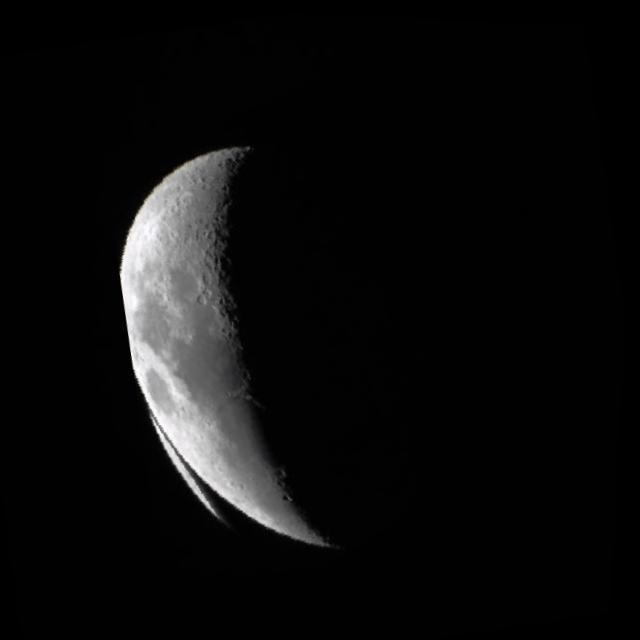moon: (80, 45, 558, 600)
